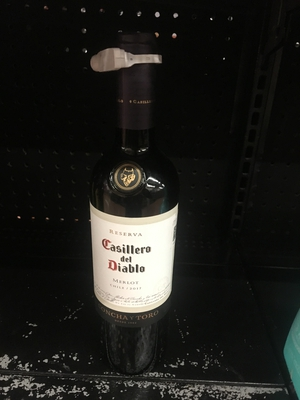casillero del diablo merlot: (67, 58, 190, 378)
